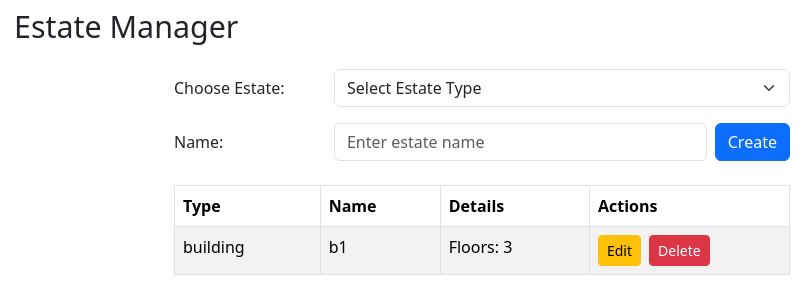
Test: EstateManager Component › remove a estate
Click the button "Delete": point(679, 250) [649, 234, 710, 266]
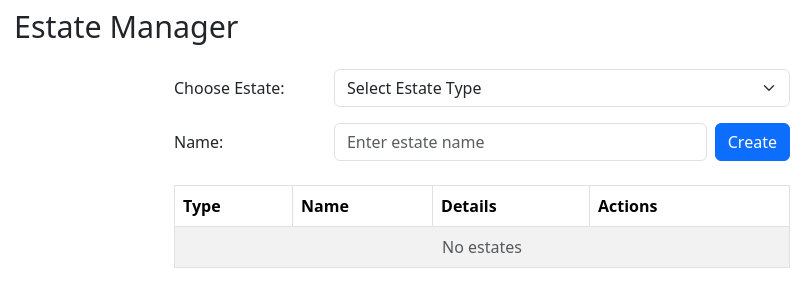
Expected: the text "b1" is gone
